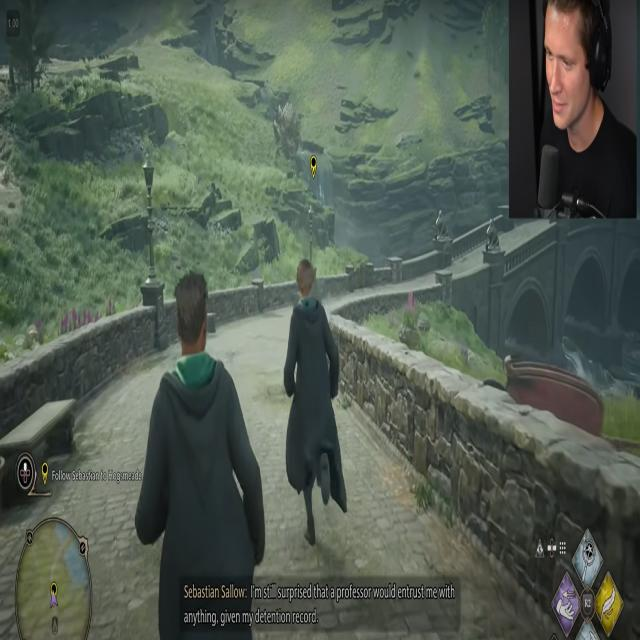compass: (50, 581, 58, 607), (310, 154, 317, 180), (42, 462, 48, 486)
